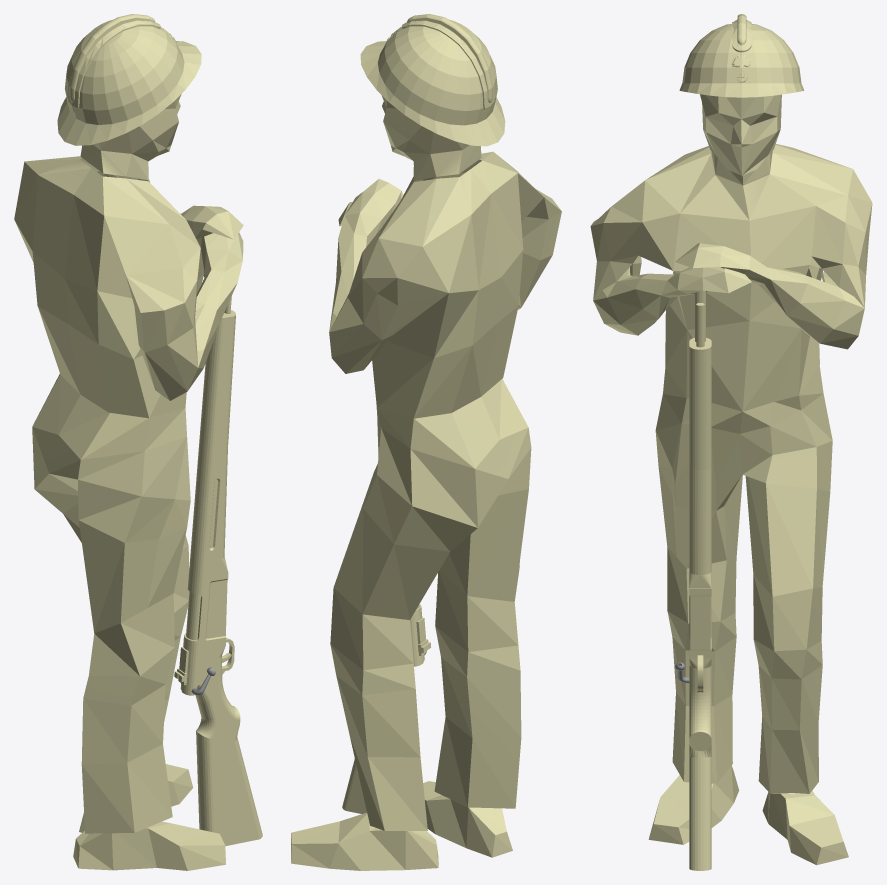
3 renders of one model, left to right at view 1: azimuth 30°, elevation 25°; view 2: azimuth 150°, elevation 25°; view 3: azimuth 270°, elevation 25°, orthographic. The views are drawn at different scales.
Visible parts, largest first — view 1: Mesh38_Composant_7_1_Composant_13_1_Model; view 2: Mesh38_Composant_7_1_Composant_13_1_Model; view 3: Mesh38_Composant_7_1_Composant_13_1_Model.
Part boxes in pixels (x1,y1,x2,y2): Mesh38_Composant_7_1_Composant_13_1_Model: [14, 14, 262, 870]; Mesh38_Composant_7_1_Composant_13_1_Model: [291, 14, 561, 870]; Mesh38_Composant_7_1_Composant_13_1_Model: [590, 14, 872, 870].
Bounding box in the file's own units: 0.6039 × 0.8154 × 2.55.
